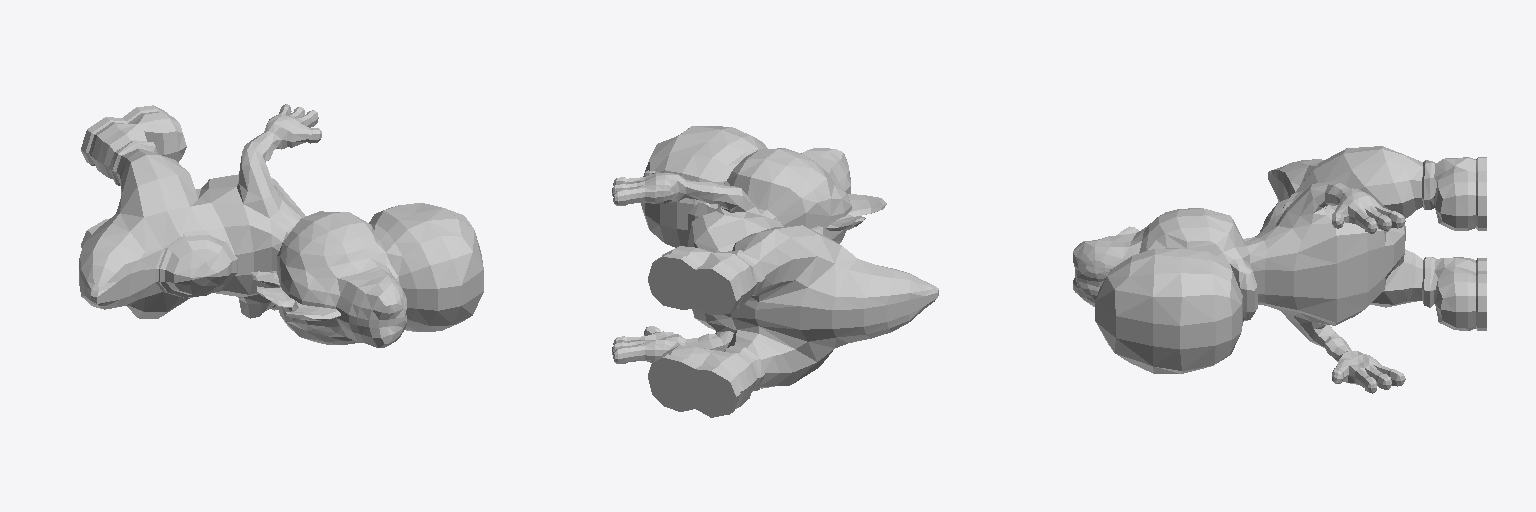
Rendered from yoshi.obj.
The picture shows the model from 3 angles: view 1: azimuth 30°, elevation 25°; view 2: azimuth 150°, elevation 25°; view 3: azimuth 270°, elevation 25°; orthographic projection.
Parts seen in each view (by area): view 1: Yoshi; view 2: Yoshi; view 3: Yoshi.
Part boxes in pixels (bbox=[...]): Yoshi: bbox=[79, 104, 483, 347]; Yoshi: bbox=[612, 126, 938, 417]; Yoshi: bbox=[1073, 146, 1486, 393].
Size of the model in its own units: 2.02 by 1.09 by 2.16.